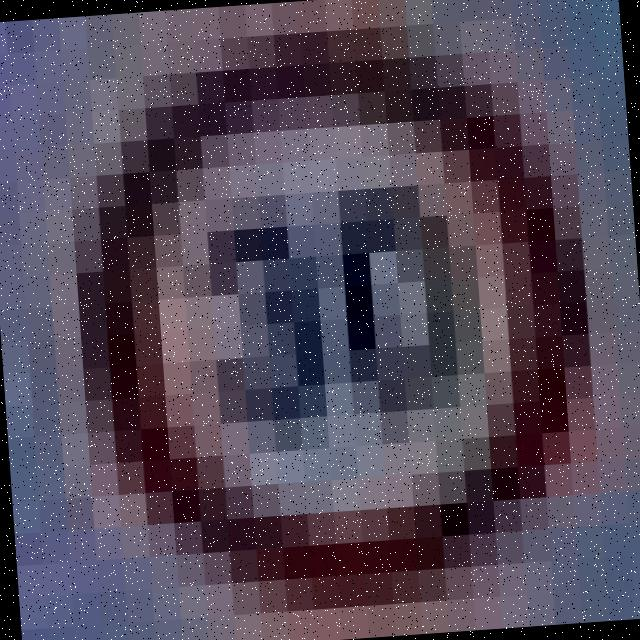Ograniczenie predkosci do 30: (32, 0, 551, 594)
